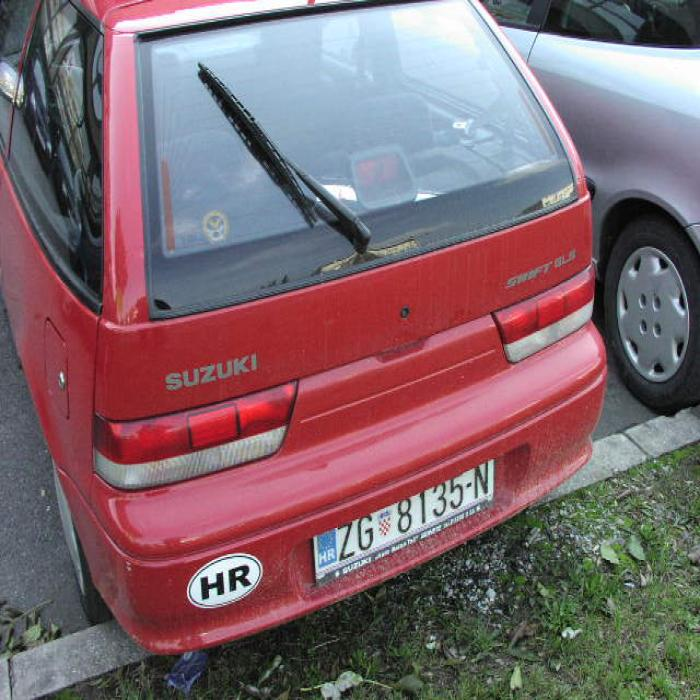number_plate: (315, 456, 493, 582)
